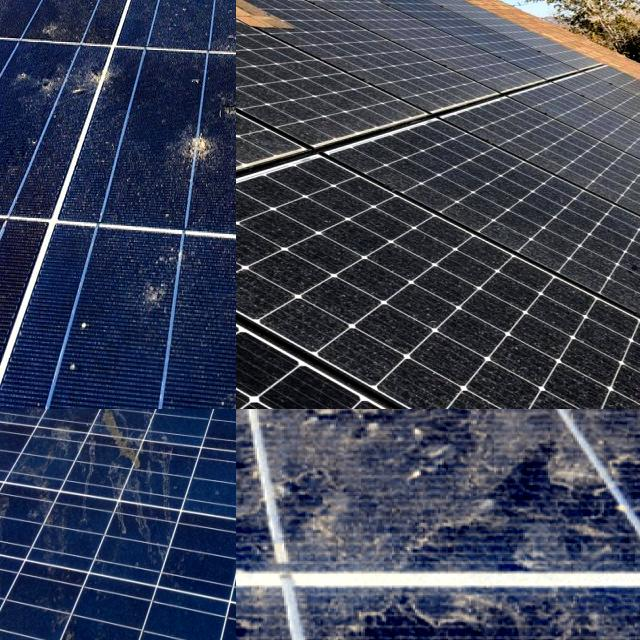bird: (52, 409, 155, 490), (130, 251, 189, 360), (30, 61, 142, 116), (0, 112, 49, 203), (152, 117, 211, 184), (29, 0, 92, 42), (0, 36, 31, 102), (205, 371, 236, 409), (219, 68, 236, 129), (44, 0, 90, 21), (178, 0, 211, 25)
dust: (236, 409, 462, 592), (517, 409, 640, 593), (413, 178, 581, 302), (317, 588, 640, 640), (236, 209, 348, 349), (388, 333, 534, 409), (330, 15, 444, 110), (236, 409, 287, 594), (236, 57, 323, 149), (425, 409, 640, 434), (236, 409, 392, 437)
